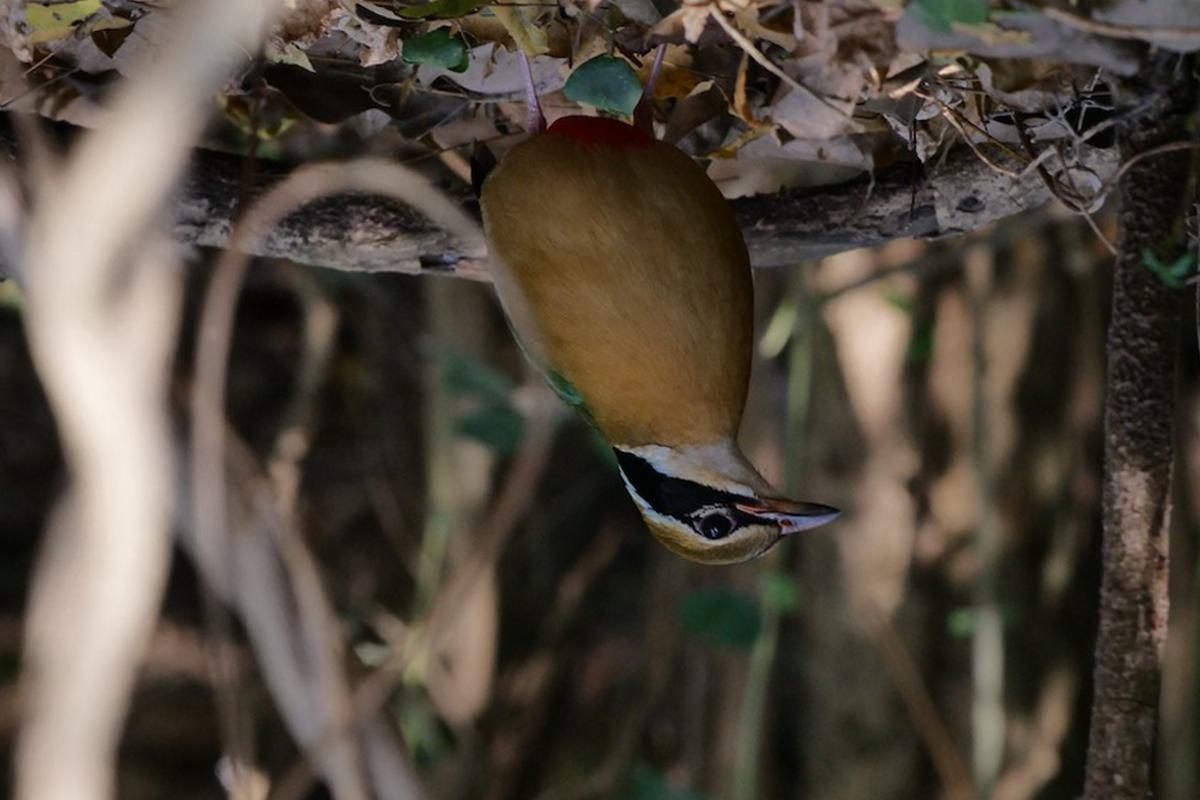pitta: (453, 88, 857, 583)
